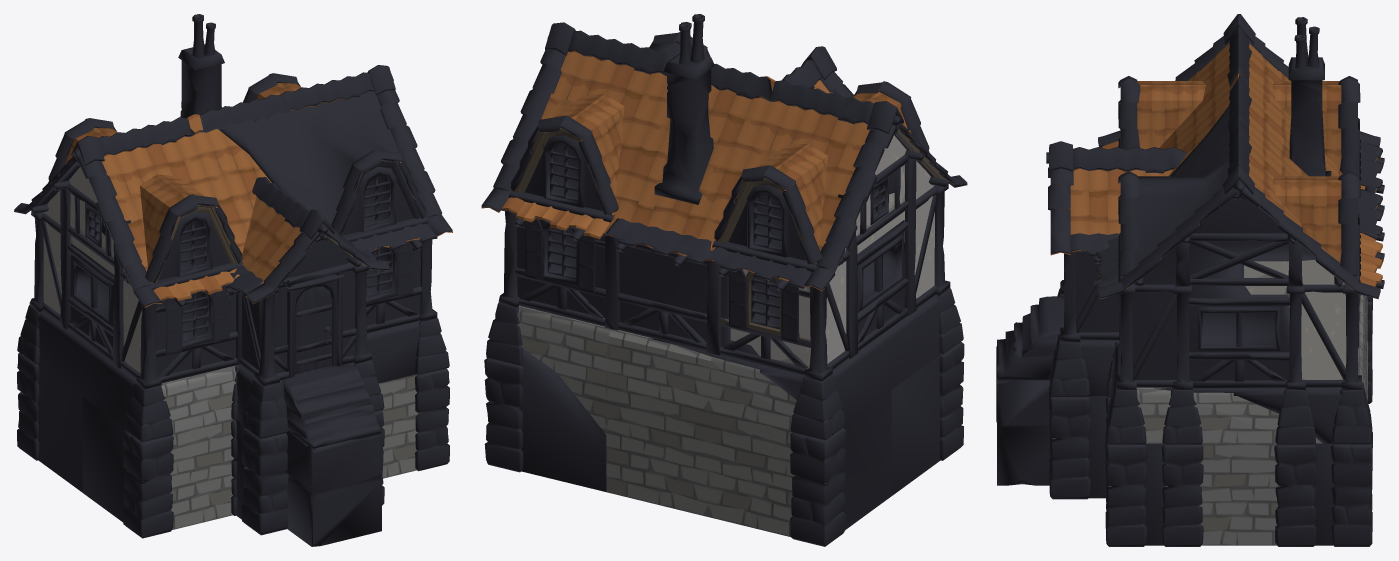
Rendered from SM_Bld_Preset_House_09_A_Optimized.fbx.
The picture shows the model from 3 angles, left to right: view 1: azimuth 30°, elevation 25°; view 2: azimuth 150°, elevation 25°; view 3: azimuth 270°, elevation 25°; orthographic projection. The views are drawn at different scales.
Visible parts, largest first — view 1: SM_Bld_Preset_House_09_A_Optimized_Outline, SM_Bld_Preset_House_09_A_Optimized; view 2: SM_Bld_Preset_House_09_A_Optimized_Outline, SM_Bld_Preset_House_09_A_Optimized; view 3: SM_Bld_Preset_House_09_A_Optimized_Outline, SM_Bld_Preset_House_09_A_Optimized.
Part boxes in pixels (x1,y1,x2,y2): SM_Bld_Preset_House_09_A_Optimized_Outline: (14,14,452,546); SM_Bld_Preset_House_09_A_Optimized: (14,83,452,529); SM_Bld_Preset_House_09_A_Optimized_Outline: (481,14,967,546); SM_Bld_Preset_House_09_A_Optimized: (481,39,967,536); SM_Bld_Preset_House_09_A_Optimized_Outline: (996,14,1384,546); SM_Bld_Preset_House_09_A_Optimized: (1050,43,1382,545).
Size of the model in its own units: 856 by 1091 by 861.
